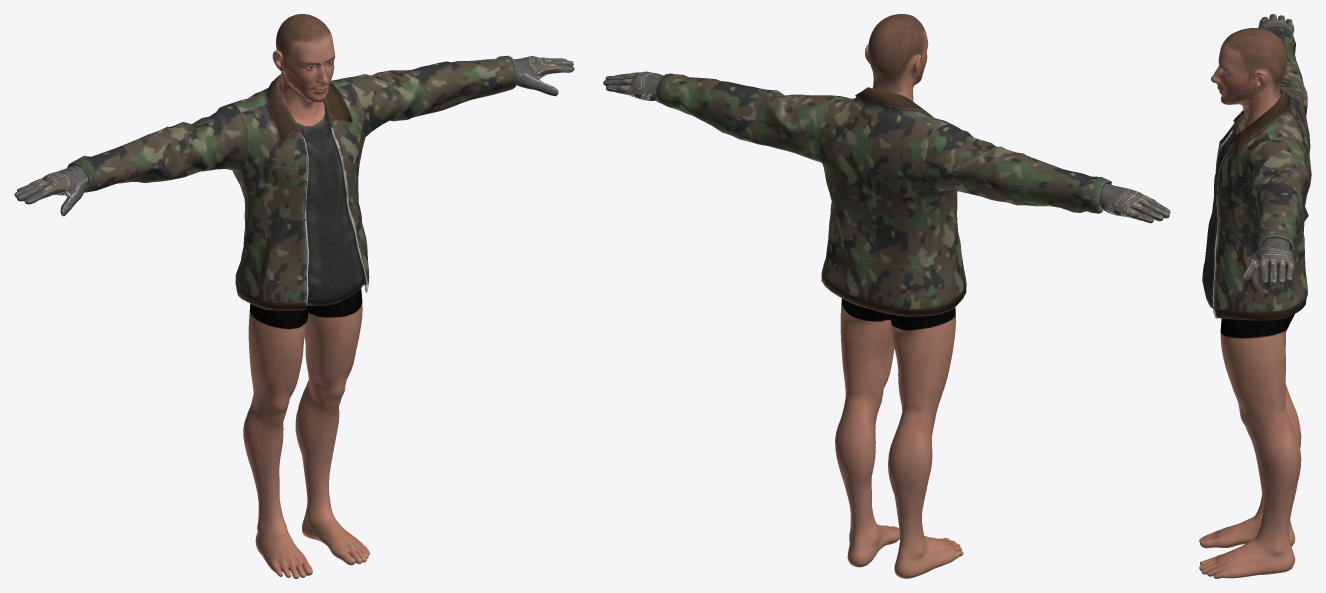
The model's file is Arms.obj.
3 views of the same model, side by side, from view 1: azimuth 30°, elevation 25°; view 2: azimuth 150°, elevation 25°; view 3: azimuth 270°, elevation 25° (orthographic). The views are drawn at different scales.
Visible parts, largest first — view 1: Tops, Body, Gloves; view 2: Tops, Body, Gloves; view 3: Body, Tops, Gloves.
Boxes of the visible parts, left/top/right/bottom form: Tops: left=67, top=55, right=518, bottom=310; Body: left=243, top=14, right=369, bottom=578; Gloves: left=14, top=56, right=574, bottom=216; Tops: left=655, top=73, right=1111, bottom=316; Body: left=835, top=14, right=963, bottom=578; Gloves: left=603, top=71, right=1170, bottom=223; Body: left=1199, top=28, right=1301, bottom=578; Tops: left=1202, top=26, right=1311, bottom=320; Gloves: left=1242, top=14, right=1294, bottom=284.
Bounding box in the file's own units: 194 × 179 × 34.45.
Materials: 3 (3 with a texture image).
